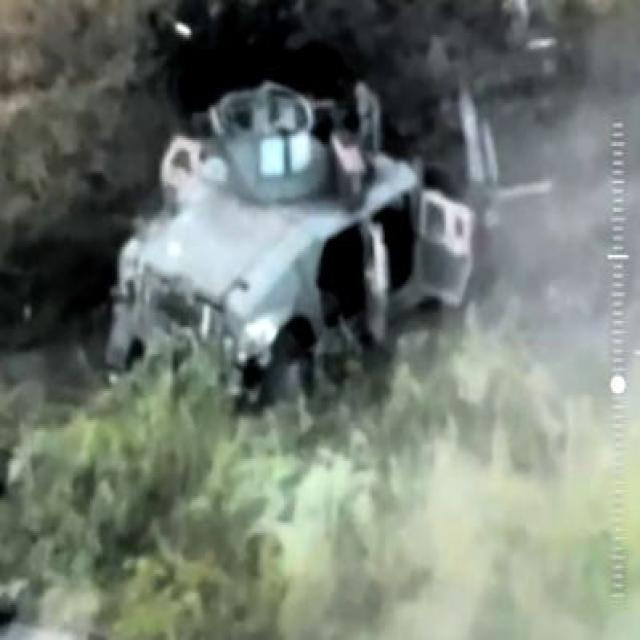Vehicle: (113, 68, 487, 393)
